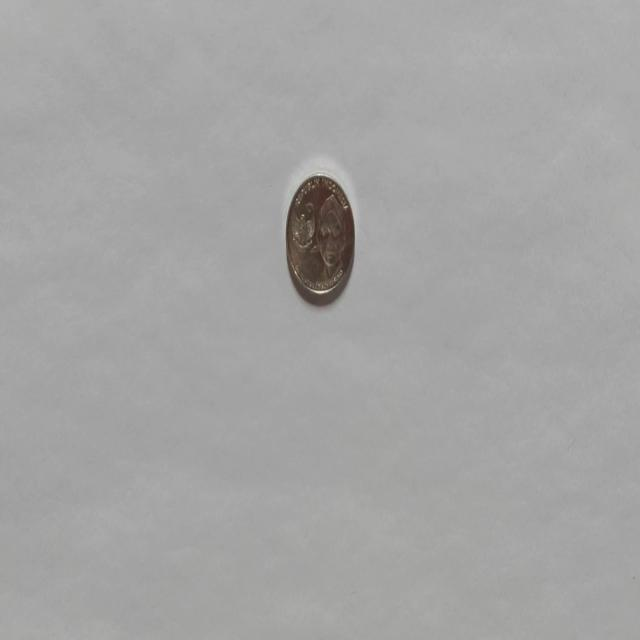dua ratus rupiah: (284, 169, 356, 305)
